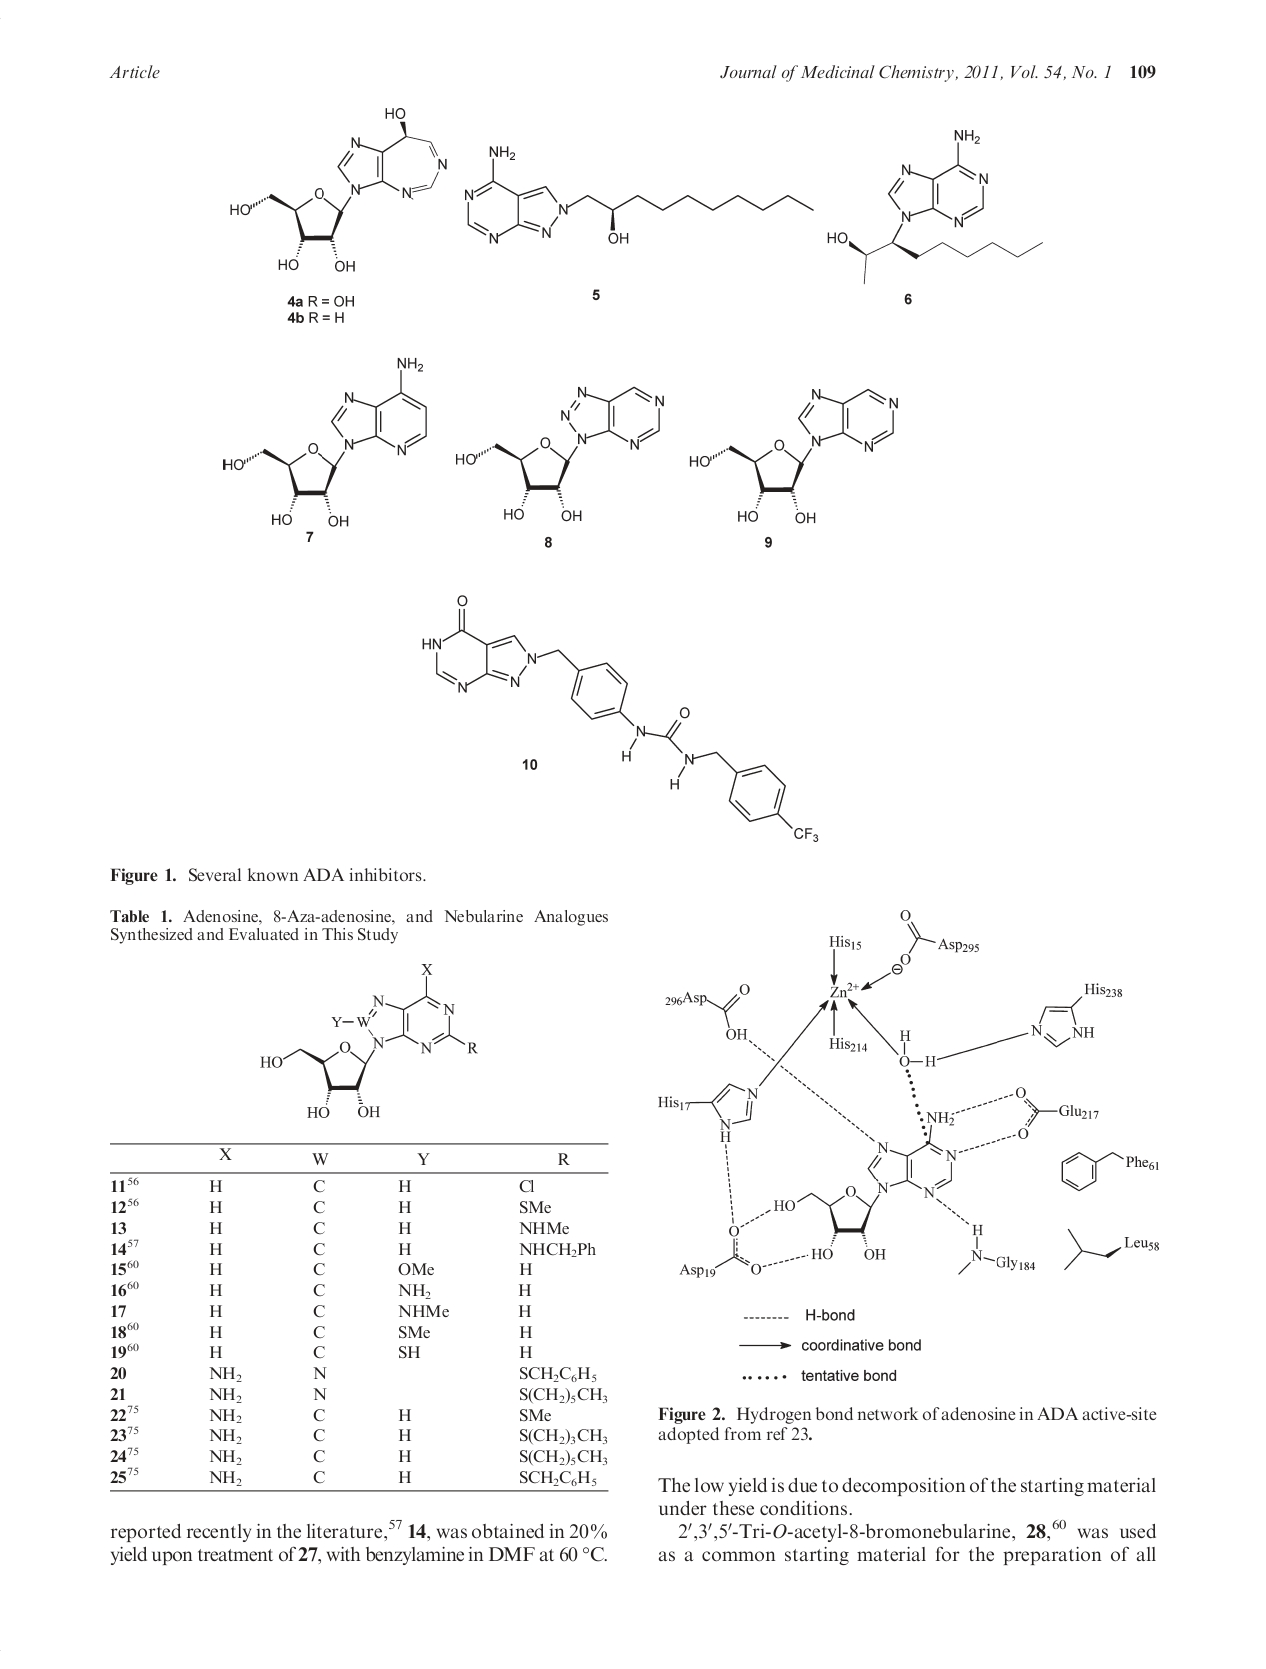exist_molecular: (414, 588, 824, 843), (222, 106, 449, 278), (253, 959, 477, 1129), (461, 141, 817, 249), (218, 354, 432, 527), (824, 124, 1049, 285), (451, 383, 666, 524), (688, 386, 902, 527), (773, 1106, 961, 1261), (1027, 965, 1126, 1051), (882, 902, 981, 977), (657, 1077, 762, 1146), (664, 980, 765, 1047), (1059, 1222, 1176, 1274), (1011, 1081, 1101, 1142), (953, 1218, 1039, 1279), (1059, 1142, 1161, 1193), (677, 1220, 763, 1279), (894, 1021, 936, 1073)
